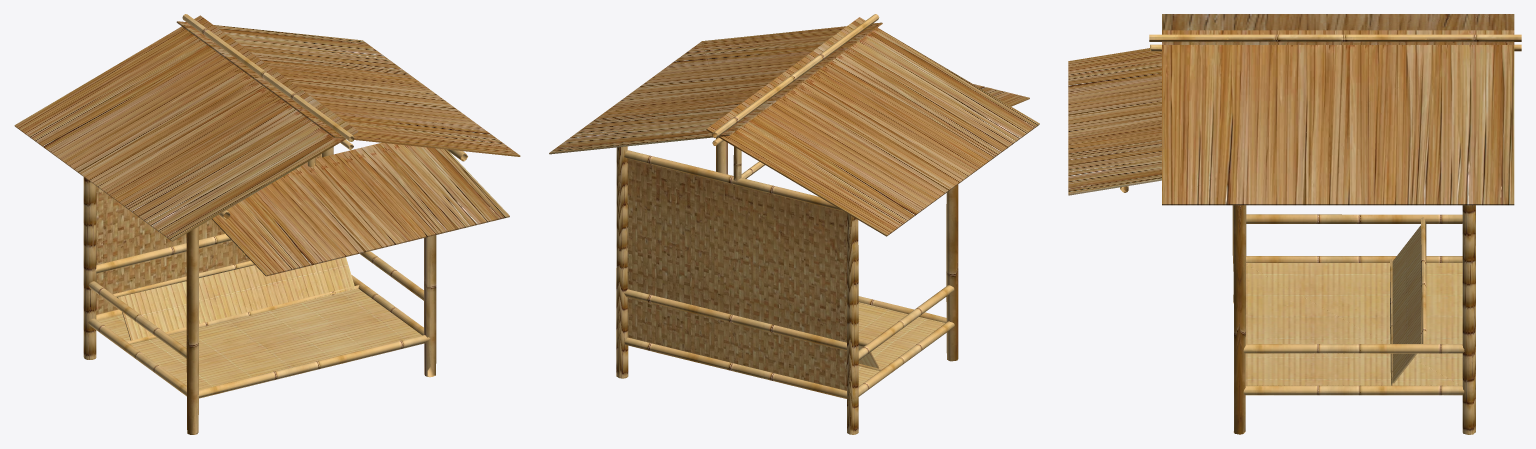
File: choi-tre.glb
3 views of the same model, side by side, from view 1: azimuth 30°, elevation 25°; view 2: azimuth 150°, elevation 25°; view 3: azimuth 270°, elevation 25° (orthographic). The views are drawn at different scales.
Parts seen in each view (by area): view 1: Object_8, Object_18, Object_4, Object_16; view 2: Object_8, Object_16, Object_4, Object_18; view 3: Object_8, Object_18, Object_4.
Boxes of the visible parts, x1=… form: Object_8: x1=14, y1=15, x2=520, y2=276; Object_18: x1=98, y1=257, x2=421, y2=389; Object_4: x1=83, y1=14, x2=467, y2=434; Object_16: x1=96, y1=153, x2=321, y2=314; Object_8: x1=549, y1=17, x2=1039, y2=236; Object_16: x1=627, y1=158, x2=846, y2=390; Object_4: x1=616, y1=14, x2=958, y2=434; Object_18: x1=858, y1=302, x2=945, y2=386; Object_8: x1=1068, y1=14, x2=1514, y2=205; Object_18: x1=1245, y1=225, x2=1462, y2=385; Object_4: x1=1120, y1=34, x2=1521, y2=434.
Bounding box in the file's own units: 0.9914 × 0.8089 × 0.9996.
Materials: 5 (5 with a texture image).
